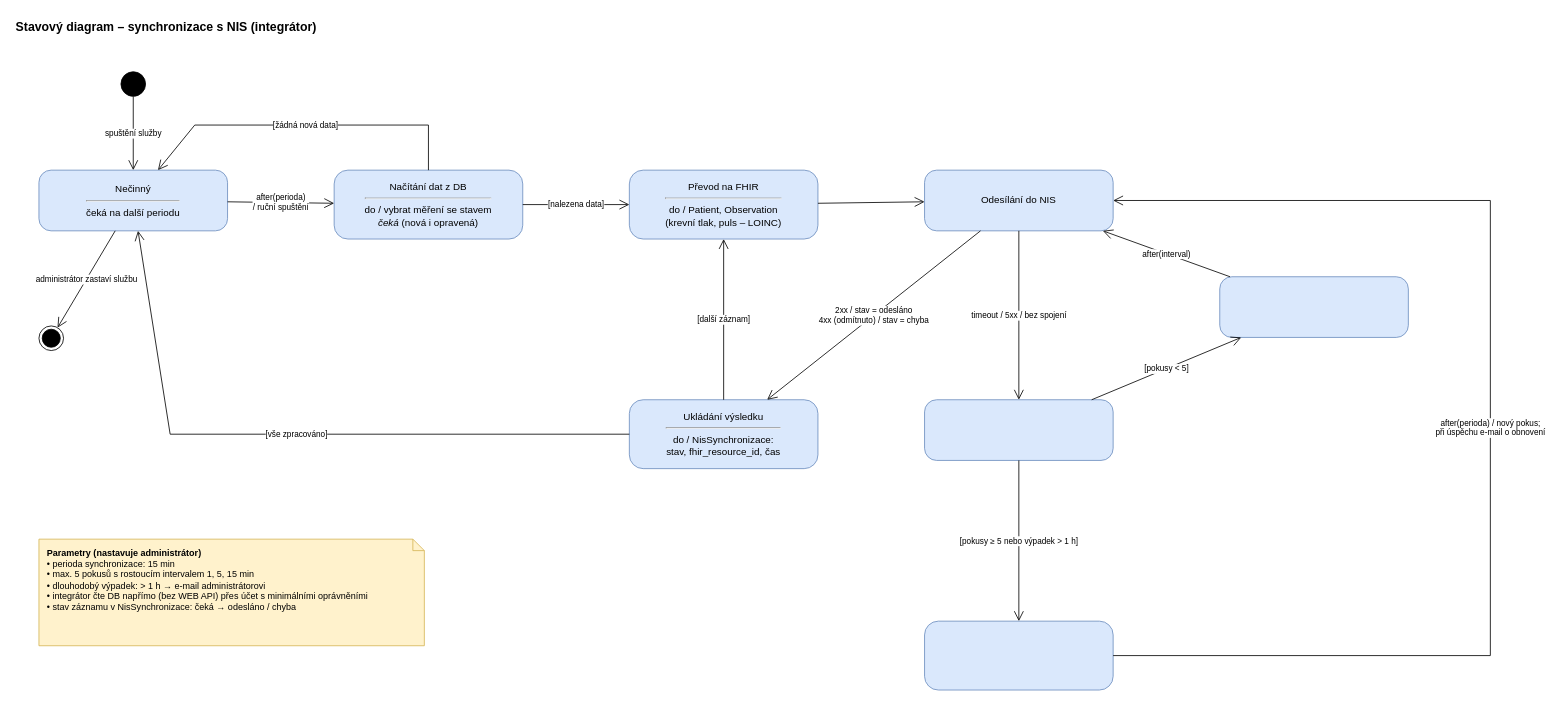
The diagram is 1559 pixels wide and 704 high, and some of its shapes have lost their labels. The shapes that lost their labels are listed below. From the top down, each one's centre as x and y in pixels, then its label:
pixel 1313 306: Čekání na opakování interval 1 → 5 → 15 min
pixel 1018 429: Chyba spojení entry / pokusy + 1
pixel 1018 655: NIS dlouhodobě nedostupný entry / e-mail administrátorovi (jen jednou)
